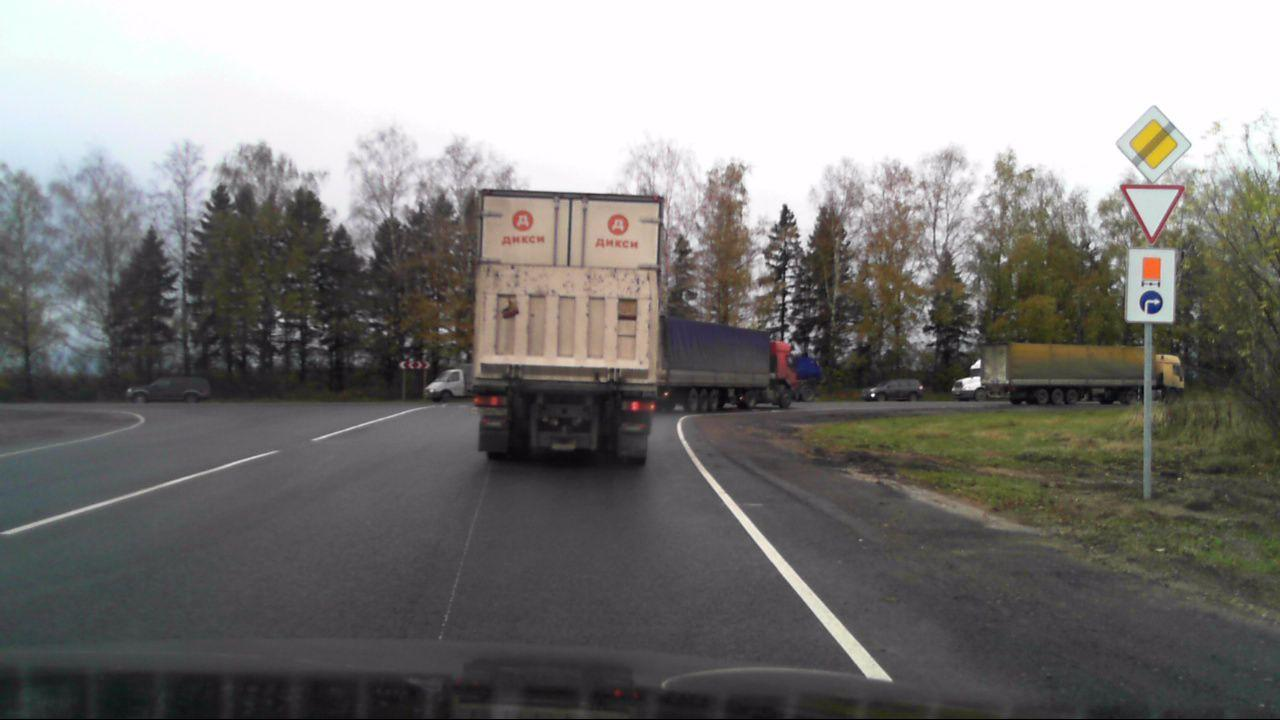2_2: (1114, 100, 1194, 185)
2_4: (1120, 184, 1184, 241)
4_8_2: (1128, 249, 1175, 324)
